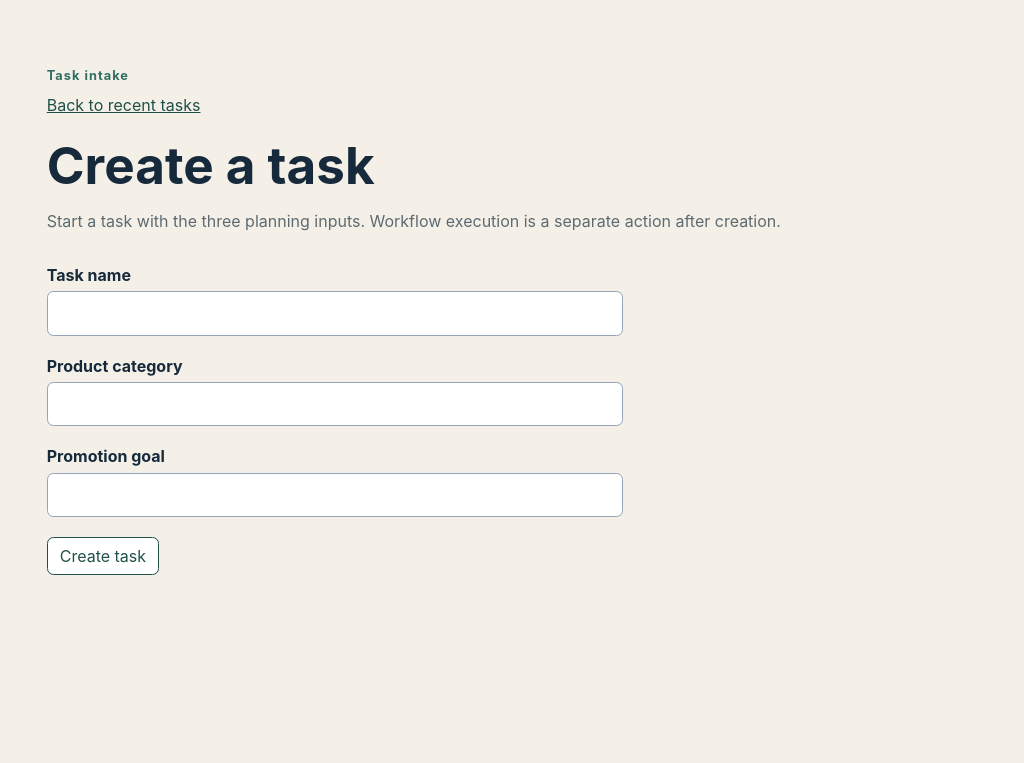
Test: NewTaskRoute › shows a newly created Task through the deterministic gateway adapter
Type "Launch" into the field labelled "Task name".
click(335, 313); type("Launch")  # box [47,291,623,336]
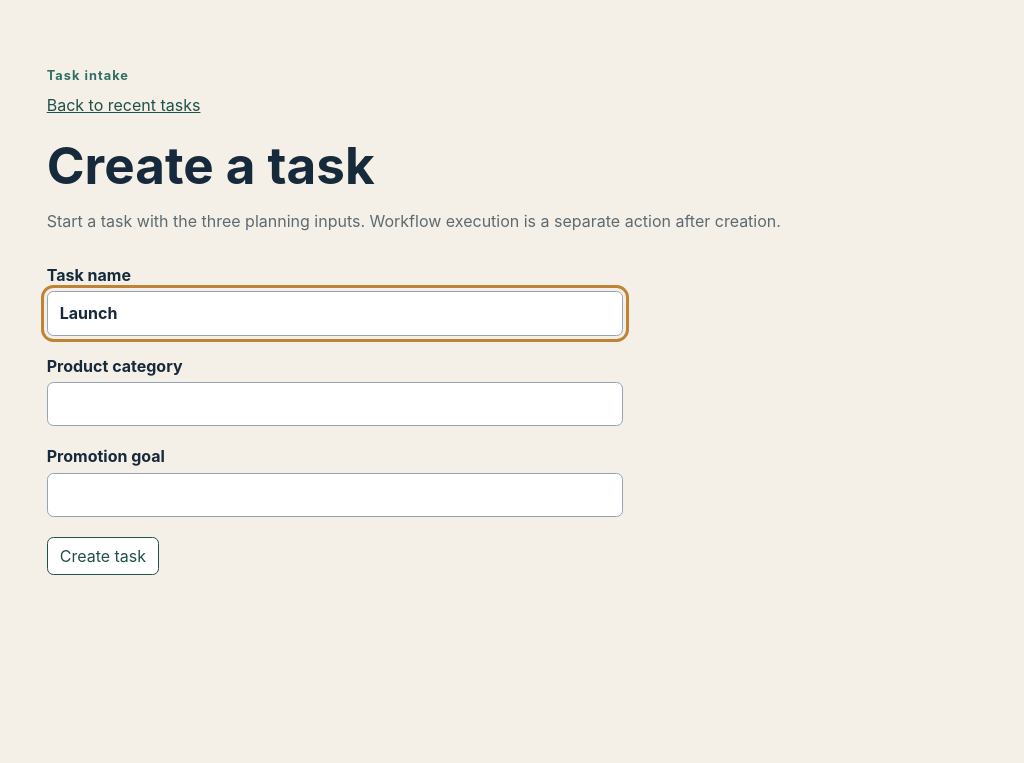
Type "Backpack" into the field labelled "Product category".
click(335, 404); type("Backpack")  # box [47,382,623,426]
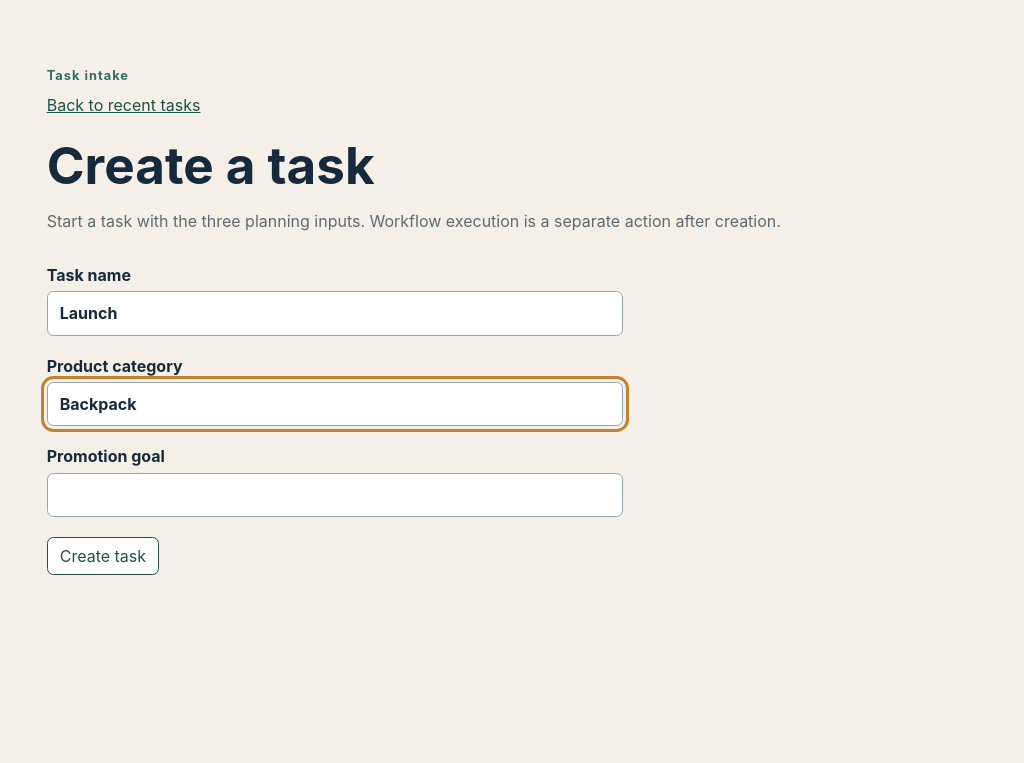
Type "Awareness" into the field labelled "Promotion goal".
click(335, 495); type("Awareness")  # box [47,473,623,517]
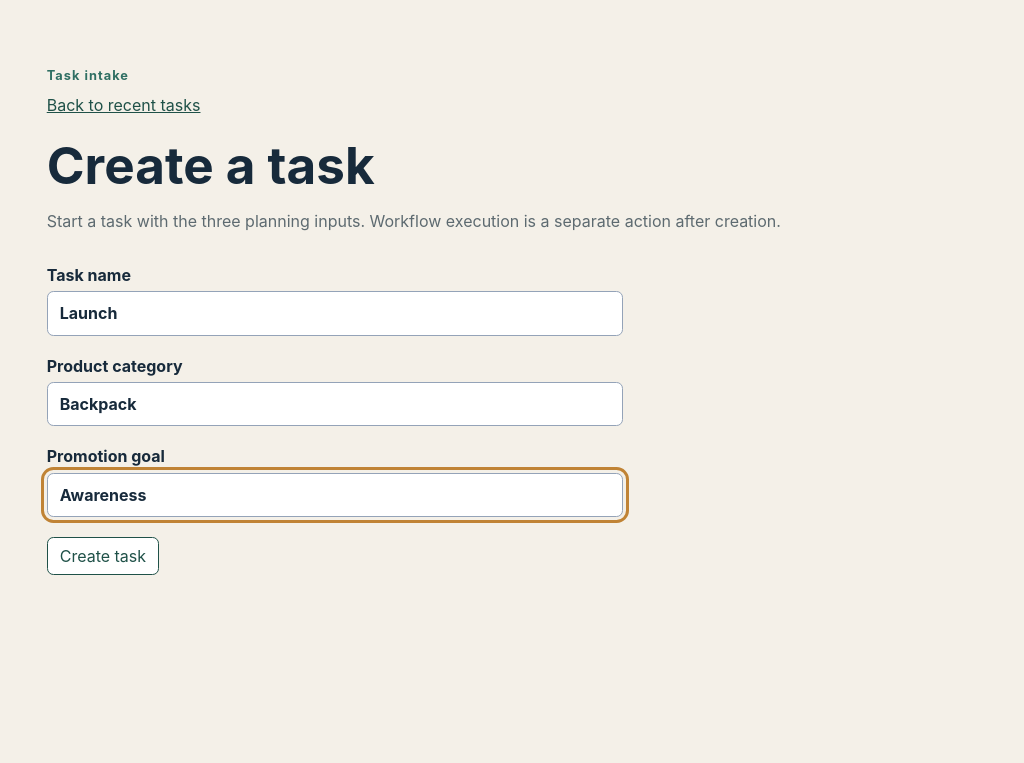
Click the button "Create task".
click(103, 556)  # box [47,537,159,575]
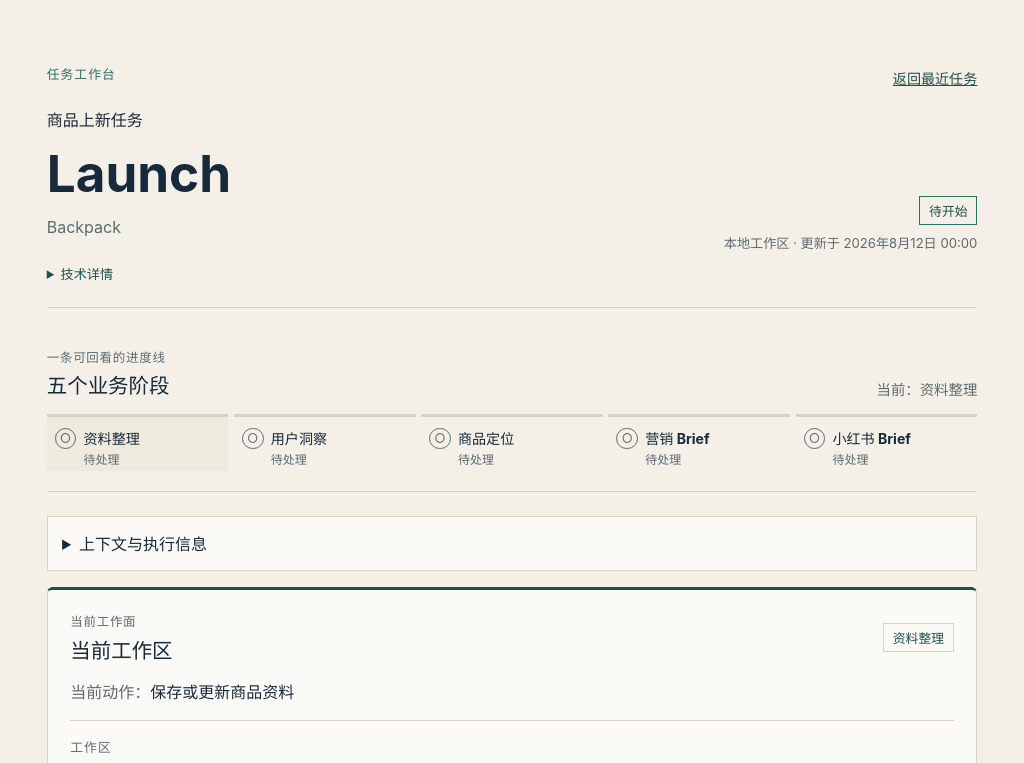
Expected: the heading "Launch" is shown, [47,147,231,201]
